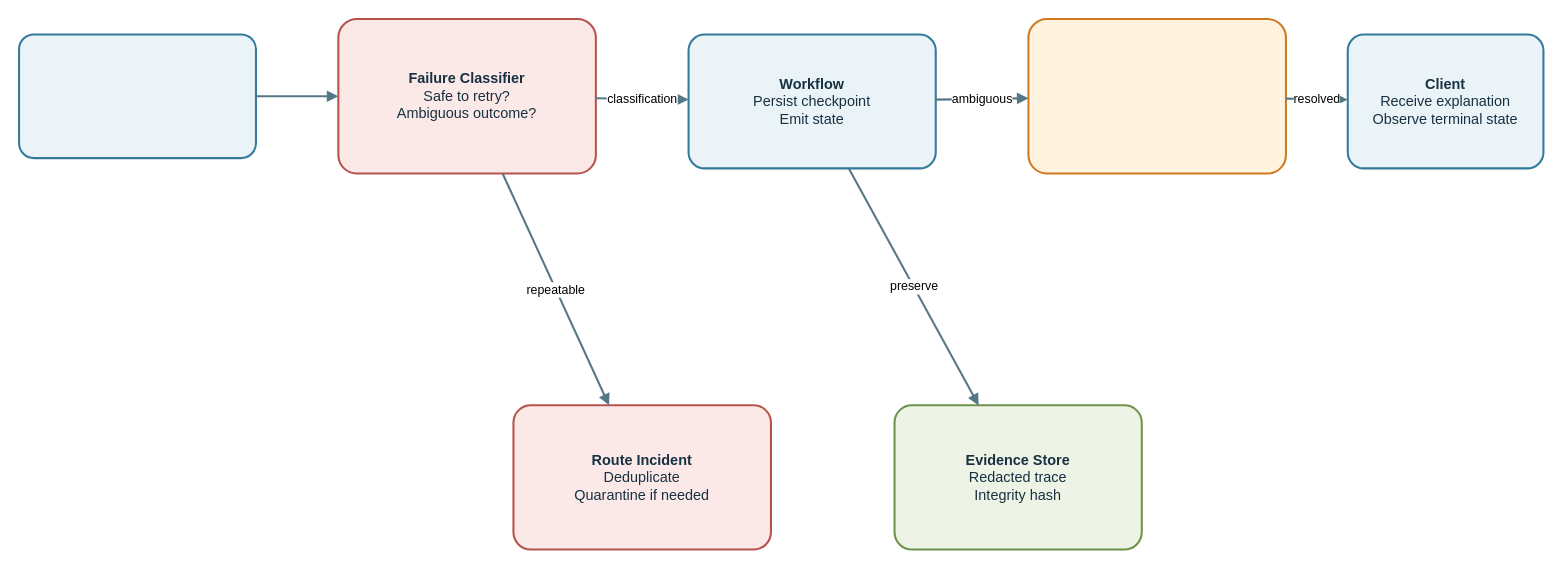
The diagram is 1561 pixels wide and 568 high, and some of its shapes have lost their labels. The box of each missing label's shape, as (x1, y1, x2, y2) in pixels:
Human Review Inspect evidence Resume or cancel: (1027, 18, 1286, 174)
Worker Detect non-success: (18, 33, 256, 159)
